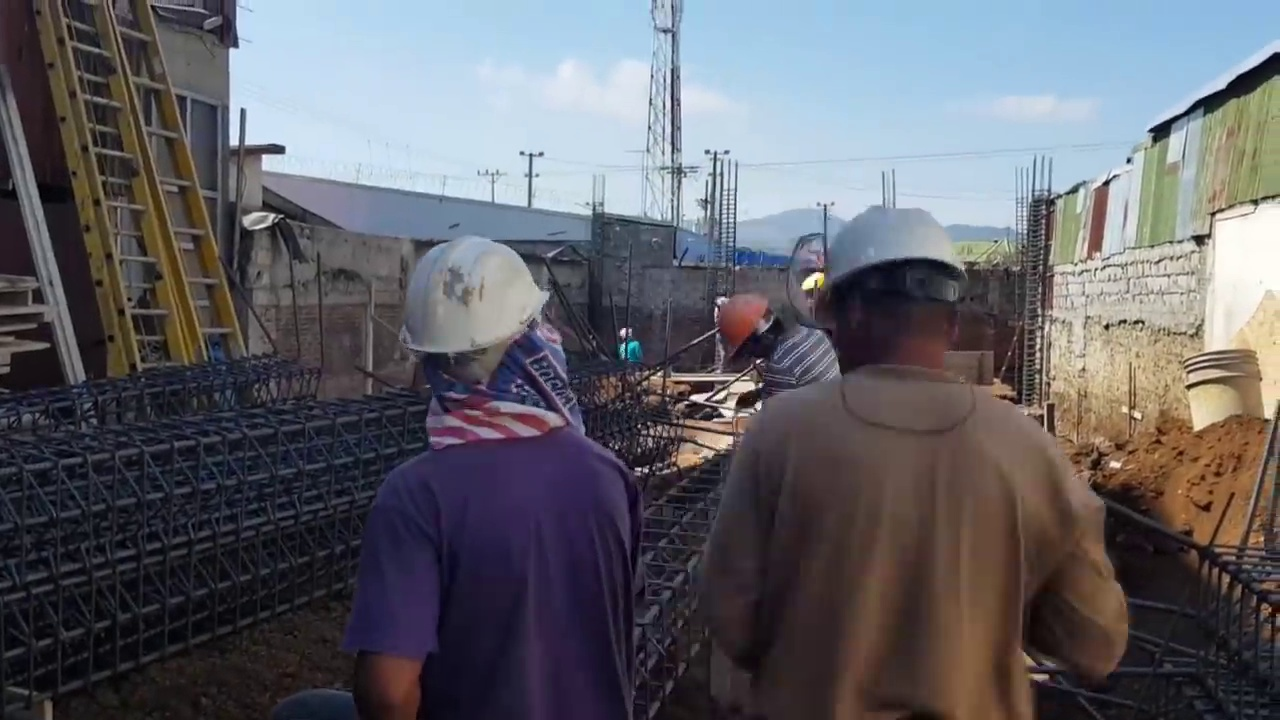helmet: (399, 236, 552, 356), (817, 204, 968, 299), (716, 290, 769, 362), (617, 328, 632, 337)
helmet-off: (712, 289, 726, 299)
helmet-on: (396, 234, 556, 443), (816, 204, 969, 384), (714, 290, 789, 365), (617, 327, 632, 343)
person: (692, 205, 1130, 720), (350, 238, 639, 720), (714, 290, 841, 401), (713, 290, 726, 374), (617, 326, 644, 365)
